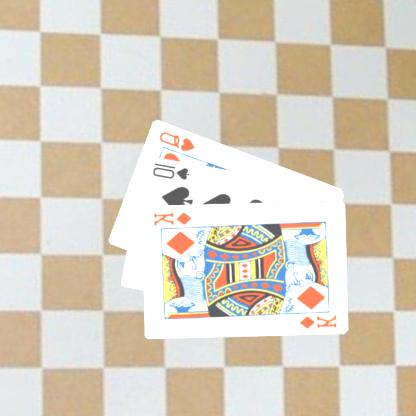10S: (151, 160, 193, 181)
KD: (152, 209, 195, 227), (298, 312, 340, 330)
QH: (158, 128, 198, 152)
